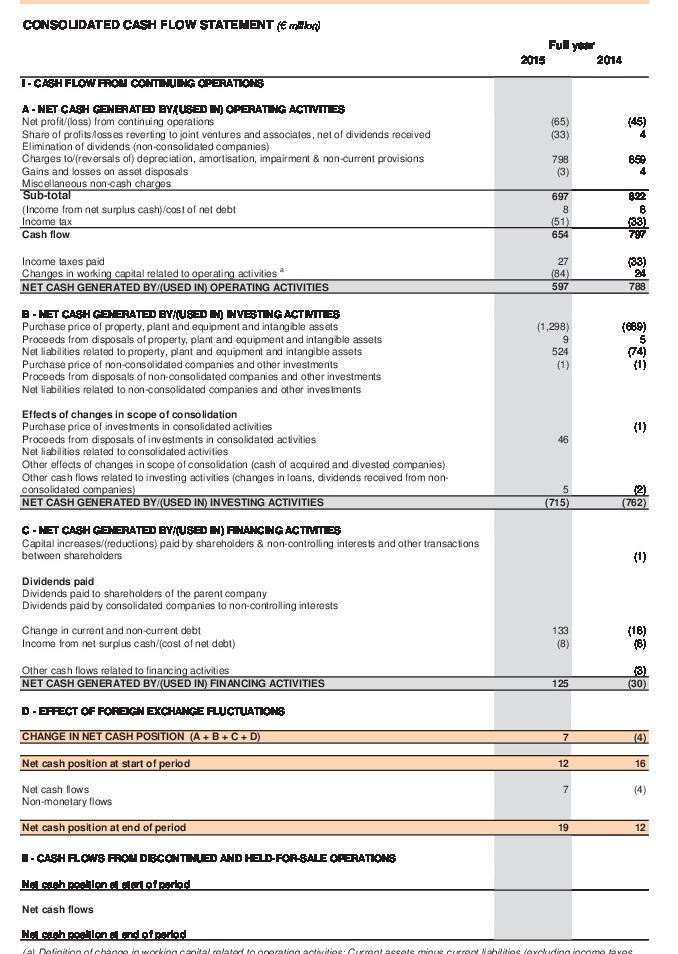table: (0, 0, 678, 954)
